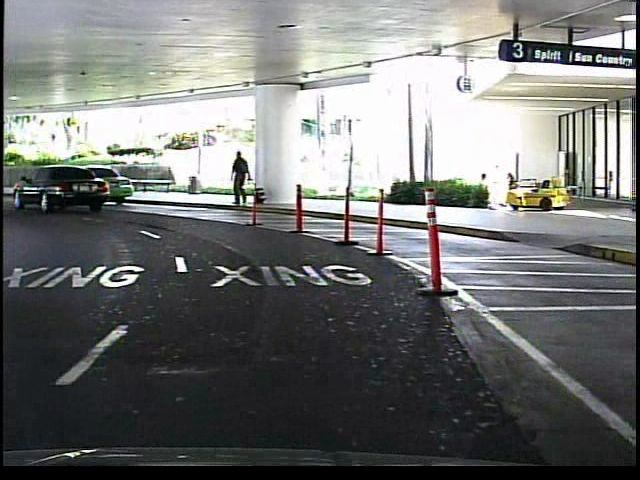person: (226, 149, 253, 212)
